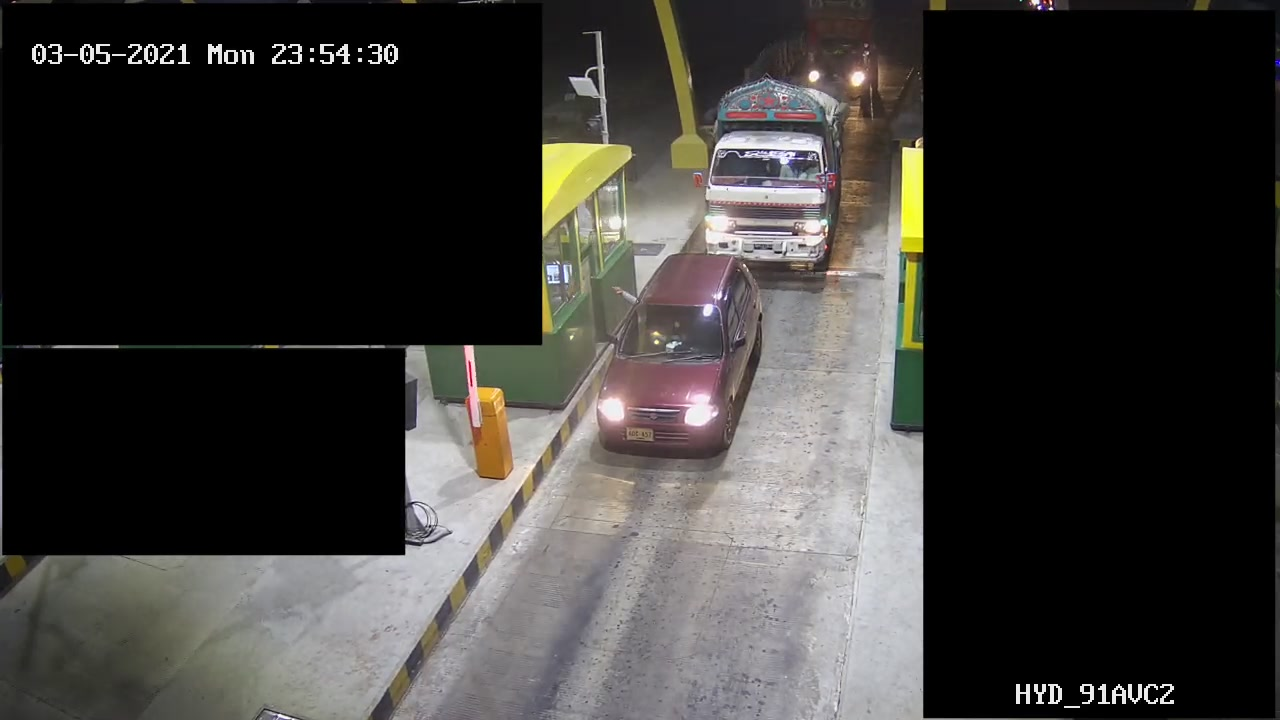F1: (594, 252, 765, 457)
F5: (701, 77, 843, 261)
